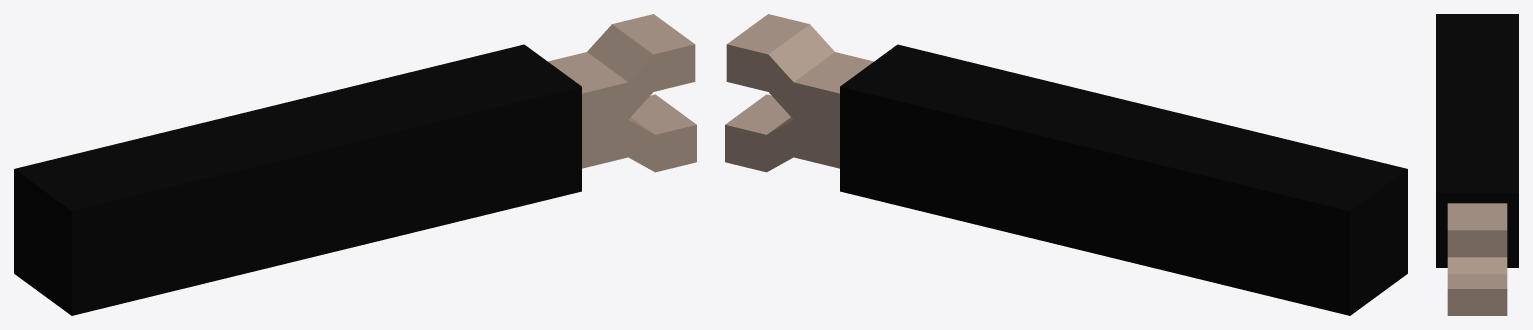
File: handChARACTER.fbx
3 renders of one model, left to right at view 1: azimuth 30°, elevation 25°; view 2: azimuth 150°, elevation 25°; view 3: azimuth 270°, elevation 25°, orthographic. The views are drawn at different scales.
Visible parts, largest first — view 1: pCube4; view 2: pCube4; view 3: pCube4.
Boxes of the visible parts, x1,y1,x2,y2 form: pCube4: [14, 14, 696, 315]; pCube4: [725, 14, 1407, 315]; pCube4: [1436, 14, 1518, 315].
Bounding box in the file's own units: 117 × 20.96 × 18.55.
